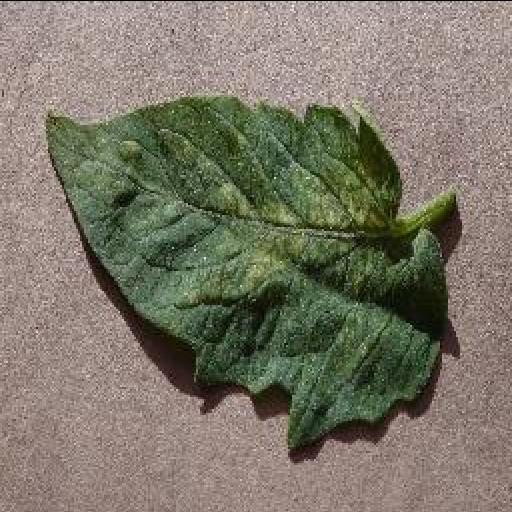disease_tomato: (44, 93, 450, 450)
